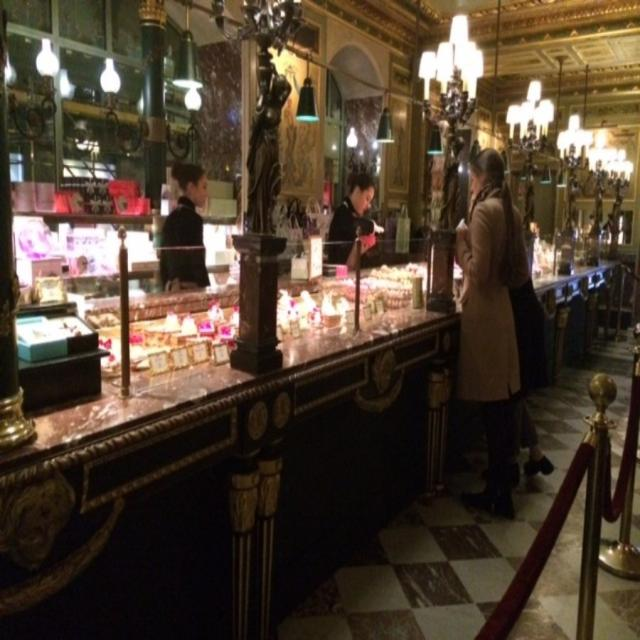body: (449, 144, 527, 528), (504, 275, 558, 480), (157, 158, 213, 296), (324, 168, 386, 277), (572, 212, 613, 244)
